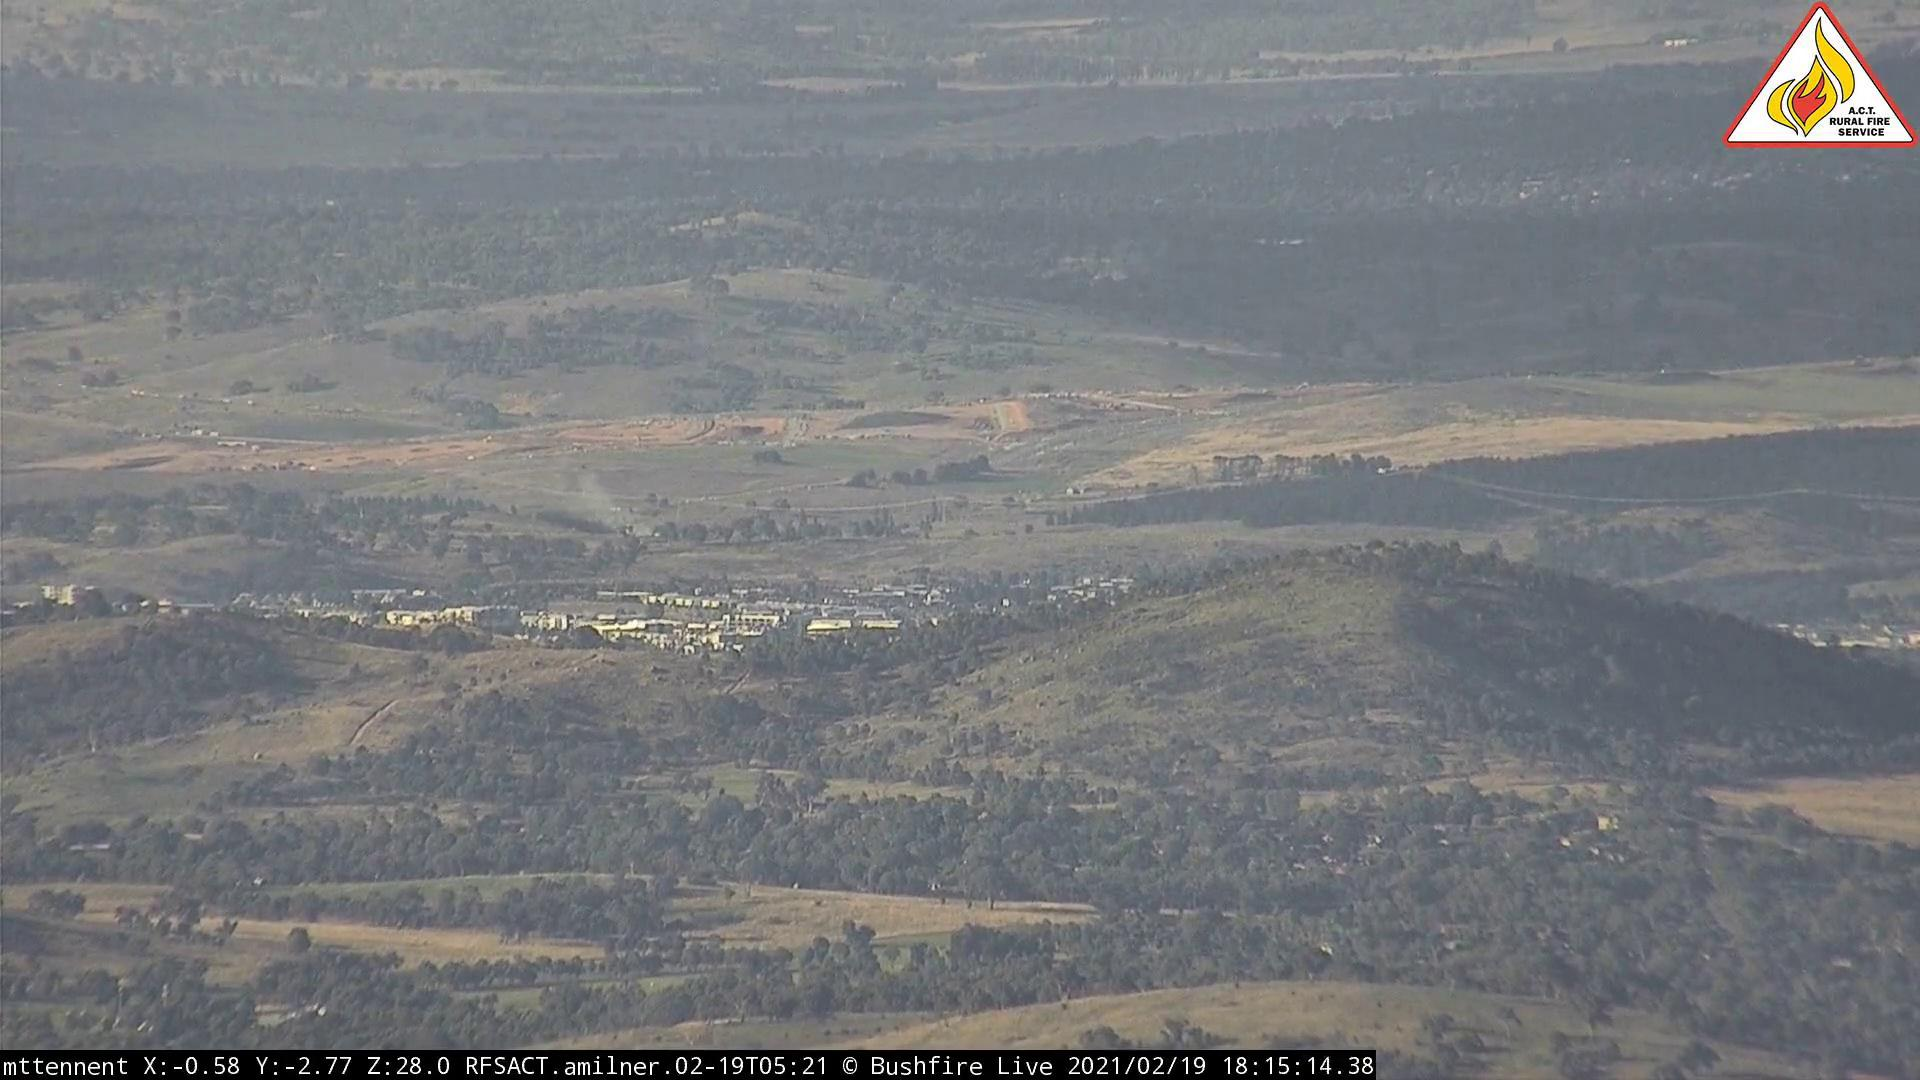Smoke: (585, 491, 659, 550)
